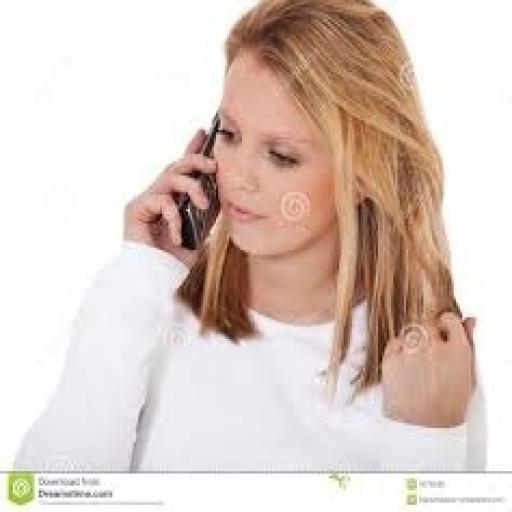calling: (11, 0, 486, 474)
